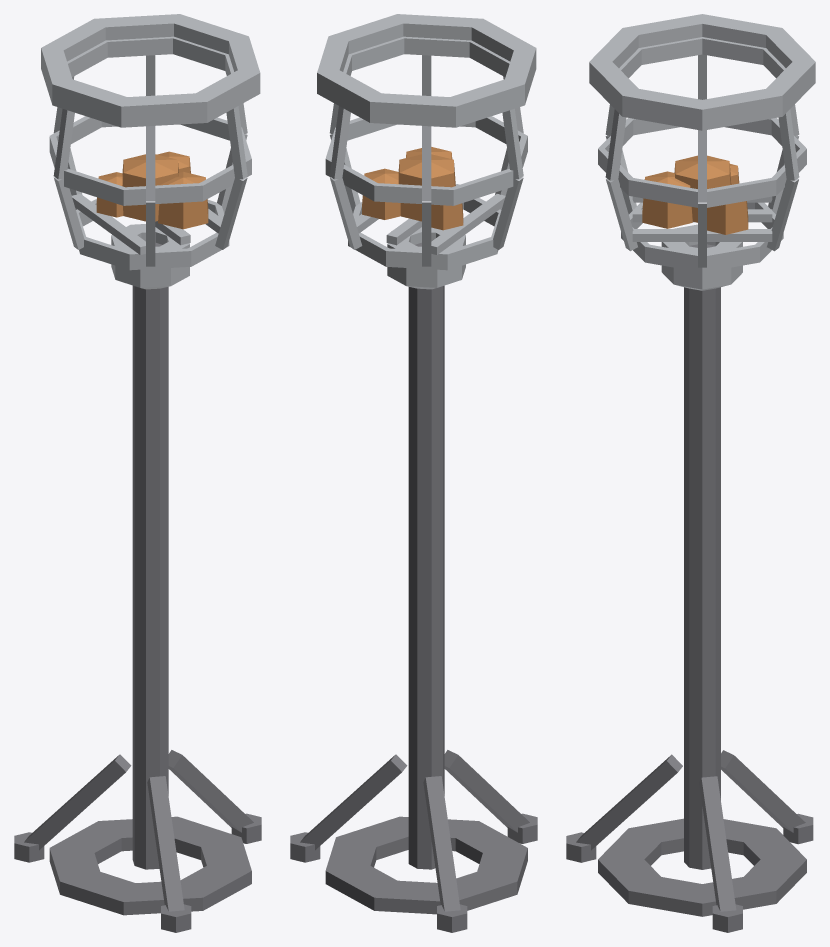
The model's file is prop-cresset-iron.fbx.
The picture shows the model from 3 angles, left to right: view 1: azimuth 30°, elevation 25°; view 2: azimuth 150°, elevation 25°; view 3: azimuth 270°, elevation 25°; orthographic projection.
Parts seen in each view (by area): view 1: prop-cresset-iron; view 2: prop-cresset-iron; view 3: prop-cresset-iron.
Boxes of the visible parts, x1,y1,x2,y2 form: prop-cresset-iron: [14, 14, 261, 932]; prop-cresset-iron: [290, 14, 537, 932]; prop-cresset-iron: [566, 14, 815, 932].
Size of the model in its own units: 0.4406 by 1.54 by 0.4296.
